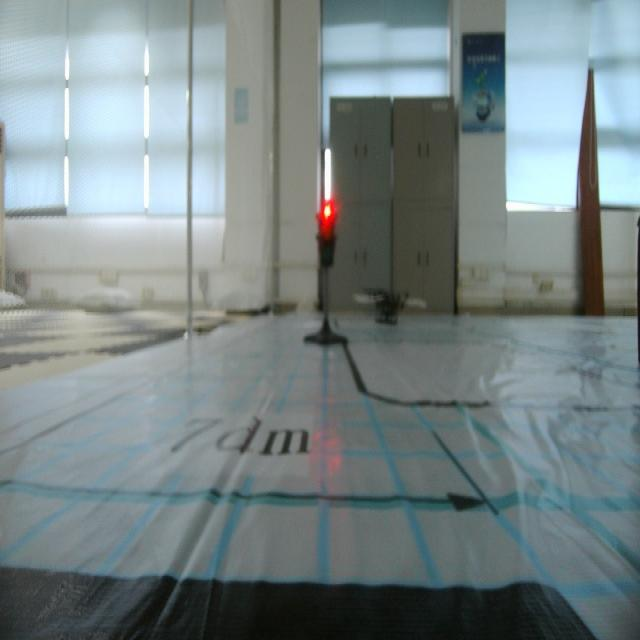red: (312, 198, 340, 278)
